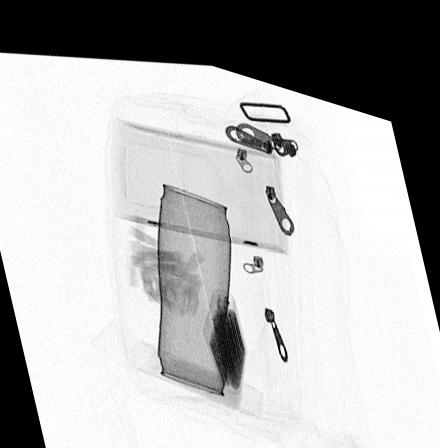Powerbank: (201, 275, 246, 379)
